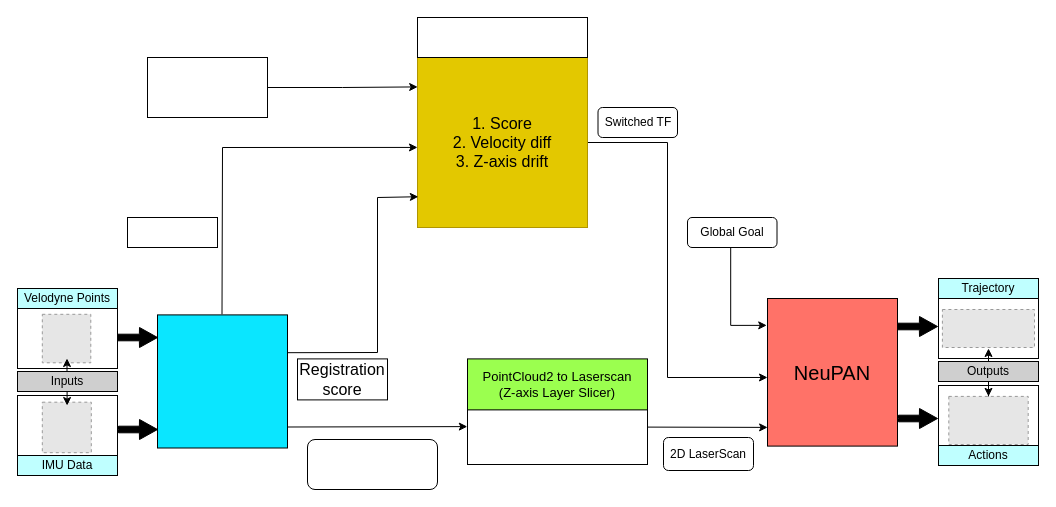
Image size: 1056x507. Some labels were removed from this diagram. Grey dashed boxes stand in for pictures. Here are the shapes that lost their labels. From the top down, the box of each, then its label:
(416, 16, 588, 58): Auto-toggle & Switcher
(146, 56, 268, 118): Wheel odometry
(126, 216, 218, 248): Odometry
(156, 314, 288, 448): FAST-LIO2
(466, 408, 648, 464): min_height = 0.1m max_height = 0.5m
(306, 438, 438, 490): Motion-Compensated PointCloud
